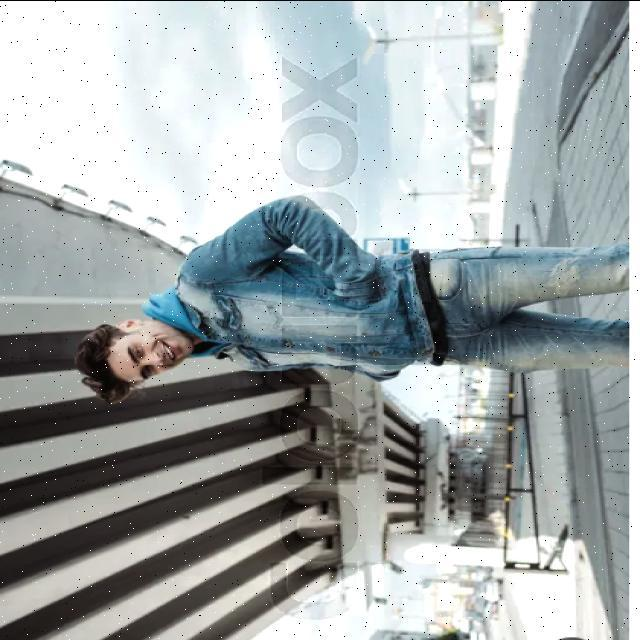face_no_mask: (107, 319, 191, 387)
